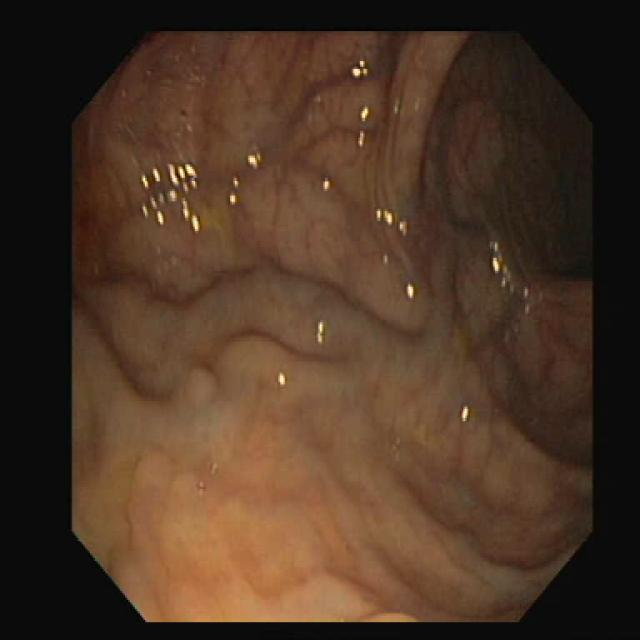tumor: (130, 444, 180, 520), (168, 362, 225, 416)
